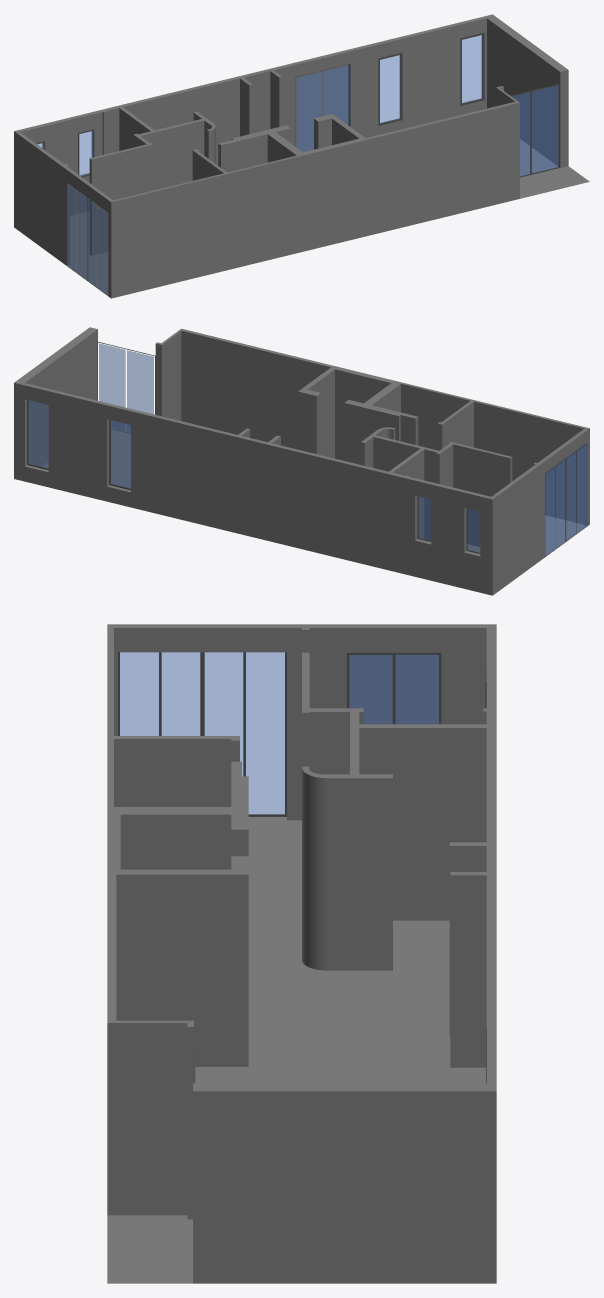
File: Hamisha.glb
3 views of the same model, one above another, from view 1: azimuth 30°, elevation 25°; view 2: azimuth 150°, elevation 25°; view 3: azimuth 270°, elevation 25° (orthographic). The views are drawn at different scales.
Bounding box in the file's own units: 12.7 × 2.44 × 4.47.
